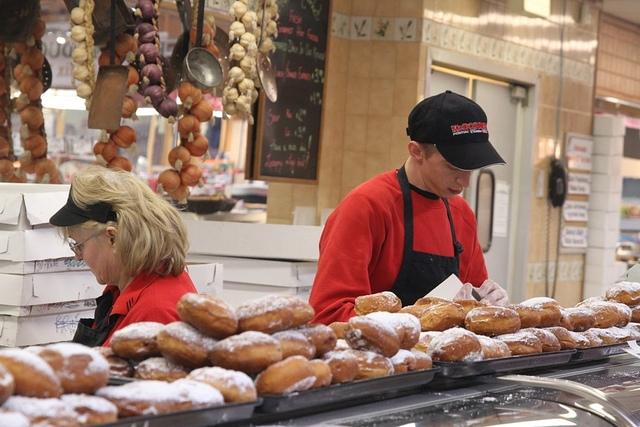garlic: (240, 32, 258, 58), (228, 21, 246, 44), (240, 56, 258, 78), (227, 66, 245, 88), (68, 25, 86, 47), (241, 10, 258, 31), (222, 86, 239, 106), (228, 42, 245, 62), (228, 1, 248, 18), (70, 7, 88, 25), (71, 47, 88, 64), (72, 65, 90, 81), (238, 78, 255, 94), (260, 37, 276, 54), (76, 83, 92, 98), (266, 20, 278, 39), (234, 95, 248, 111), (224, 101, 238, 115), (266, 6, 276, 20), (85, 96, 94, 110), (252, 86, 258, 106), (237, 0, 248, 7), (79, 1, 85, 10), (272, 4, 278, 12)
